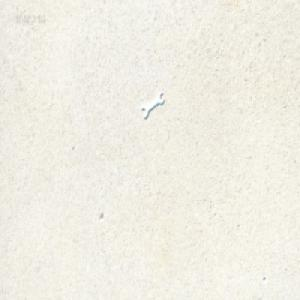Wrench: (140, 89, 163, 118)
